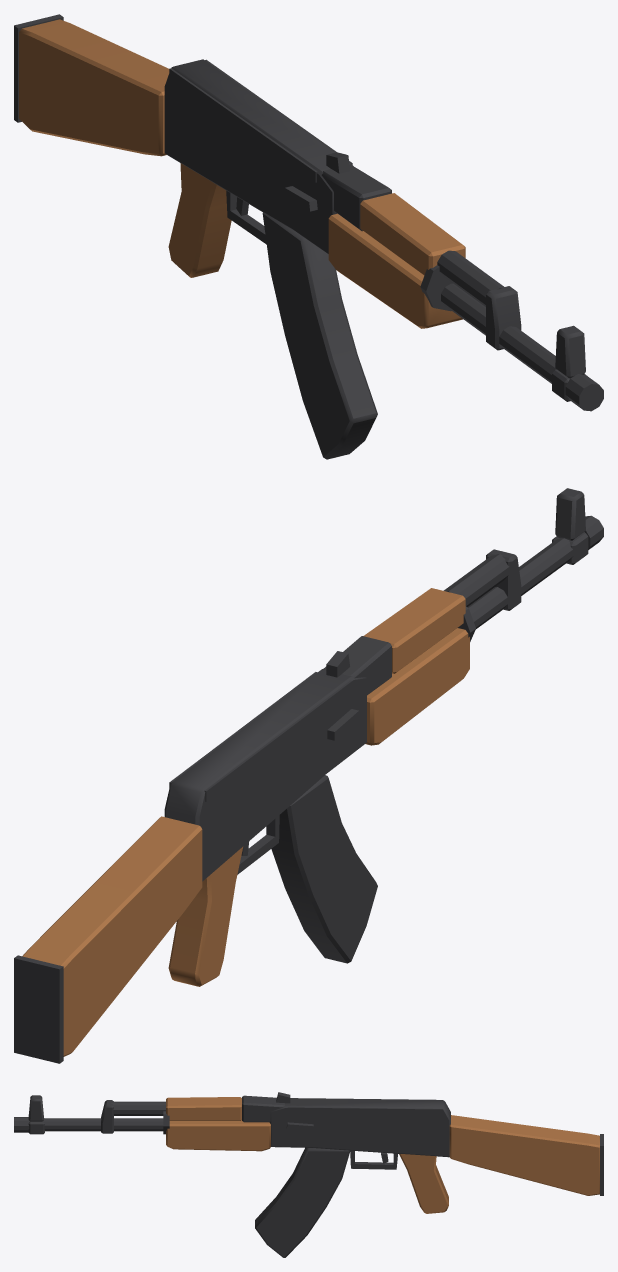
3 views of the same model, one above another, from view 1: azimuth 30°, elevation 25°; view 2: azimuth 150°, elevation 25°; view 3: azimuth 270°, elevation 25° (orthographic). The views are drawn at different scales.
Parts seen in each view (by area): view 1: AK47; view 2: AK47; view 3: AK47.
Boxes of the visible parts, x1=… form: AK47: x1=14, y1=14, x2=603, y2=459; AK47: x1=14, y1=488, x2=603, y2=1063; AK47: x1=14, y1=1092, x2=603, y2=1257.
Size of the model in its own units: 0.046 by 0.2671 by 0.8839.
